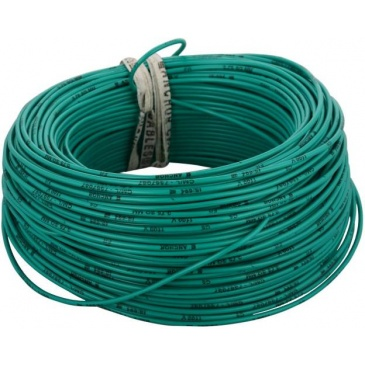Nonrec_Tangler: (3, 36, 363, 328)
